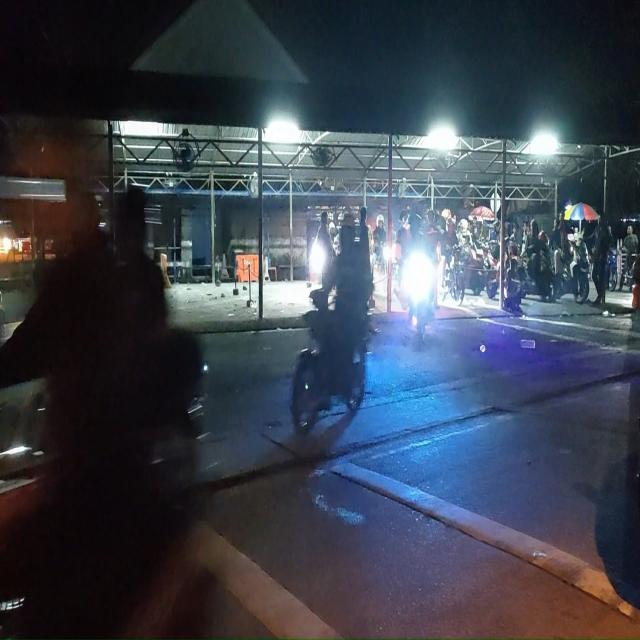Golongan II: (0, 341, 208, 638), (291, 289, 368, 435), (401, 251, 437, 340), (553, 242, 590, 304), (516, 250, 553, 302), (460, 243, 487, 296), (443, 245, 465, 306), (482, 240, 500, 300), (619, 254, 636, 292), (606, 245, 618, 290)
